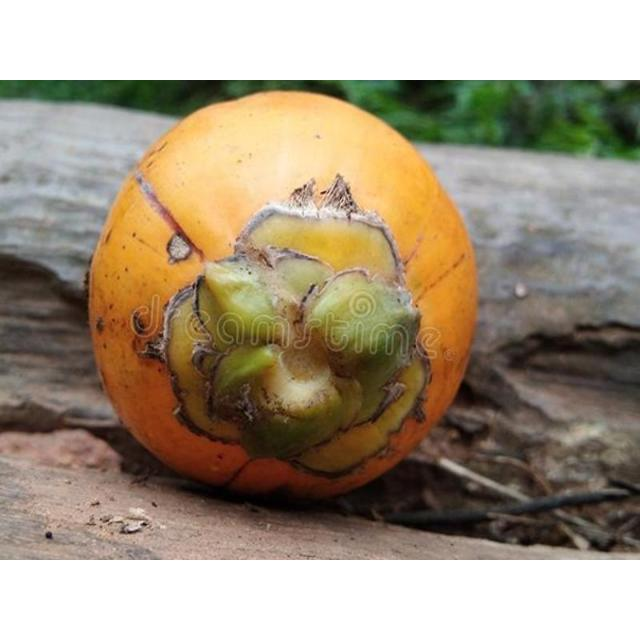good: (87, 90, 479, 504)
